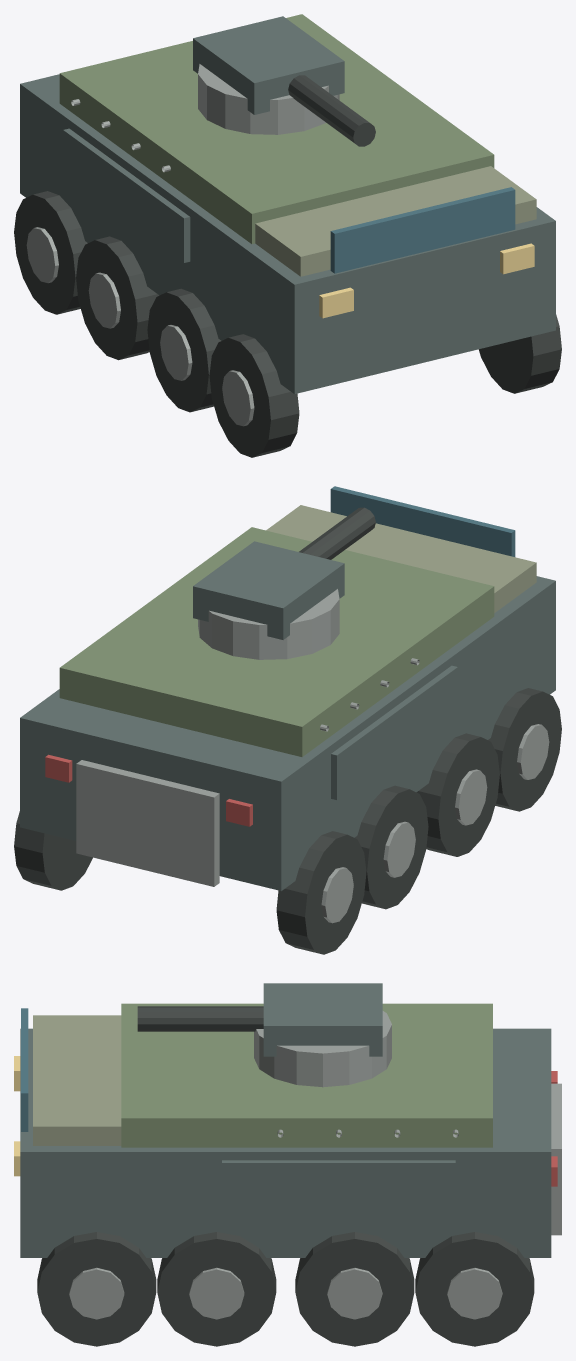
The model's file is vehicle-armored-carrier.gltf.
3 views of the same model, one above another, from view 1: azimuth 30°, elevation 25°; view 2: azimuth 150°, elevation 25°; view 3: azimuth 270°, elevation 25° (orthographic). The views are drawn at different scales.
Visible parts, largest first — view 1: armor, body, tire, metal, body2, glass, light; view 2: armor, body, tire, metal, body2, glass, red; view 3: armor, body, tire, metal, body2, glass, light.
Part boxes in pixels (box(x1,y1,x2,y2)): armor: box(20, 16, 555, 394); body: box(59, 14, 494, 243); tire: box(14, 75, 561, 457); metal: box(26, 64, 339, 426); body2: box(255, 166, 536, 276); glass: box(330, 187, 515, 273); light: box(319, 243, 534, 318); armor: box(20, 541, 555, 890); body: box(59, 527, 494, 756); tire: box(14, 507, 561, 954); metal: box(76, 589, 549, 923); body2: box(266, 505, 536, 612); glass: box(330, 486, 515, 556); red: box(45, 754, 252, 826); armor: box(20, 983, 551, 1257); body: box(121, 1003, 492, 1147); tire: box(37, 1006, 534, 1346); metal: box(69, 1011, 561, 1319); body2: box(33, 1015, 121, 1145); glass: box(21, 1008, 28, 1131); light: box(14, 1056, 20, 1176).
Bounding box in the file's own units: 3.14 × 2.84 × 5.16.
